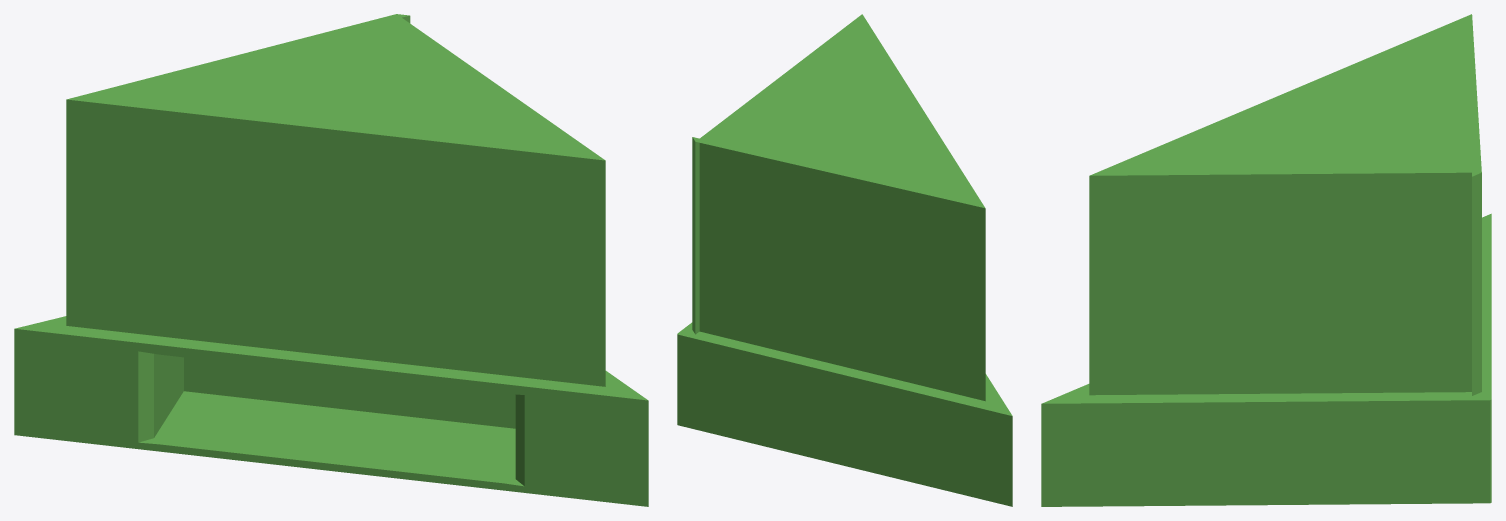
File: fireplace.fbx
3 renders of one model, left to right at view 1: azimuth 30°, elevation 25°; view 2: azimuth 150°, elevation 25°; view 3: azimuth 270°, elevation 25°, orthographic. The views are drawn at different scales.
Visible parts, largest first — view 1: pCube1; view 2: pCube1; view 3: pCube1.
Part boxes in pixels (left/top/right/bottom): pCube1: left=14, top=14, right=648, bottom=506; pCube1: left=677, top=14, right=1012, bottom=506; pCube1: left=1041, top=14, right=1491, bottom=506.
Bounding box in the file's own units: 283 × 223 × 283.
